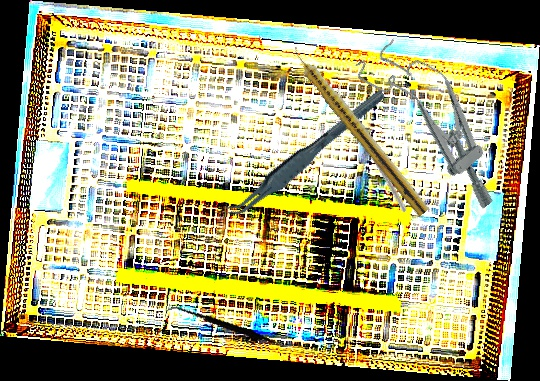Chopper: (300, 79, 447, 213)
Handpiece: (286, 42, 434, 218)
Spatula Surgical: (165, 280, 295, 376)
Speculum: (351, 25, 525, 219)
Tissue Forceps: (211, 88, 399, 223)
